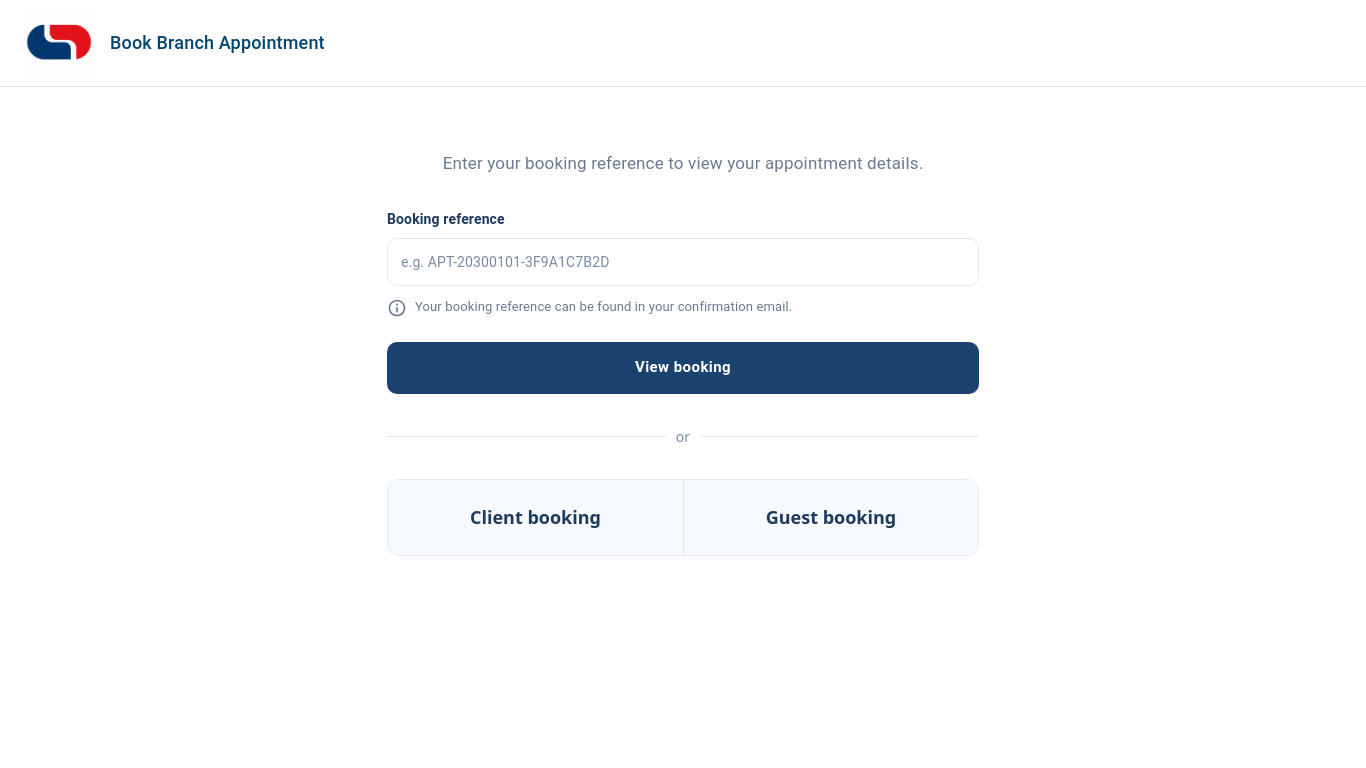
Test: AuthGate entry screen › lands unauthenticated users on the index screen and launches both flows, with Back returning to it
Expected: the field labelled "Booking reference" is shown, [387,235,979,288]
Click the button "Client booking": x=536, y=517 [388,480,683,554]
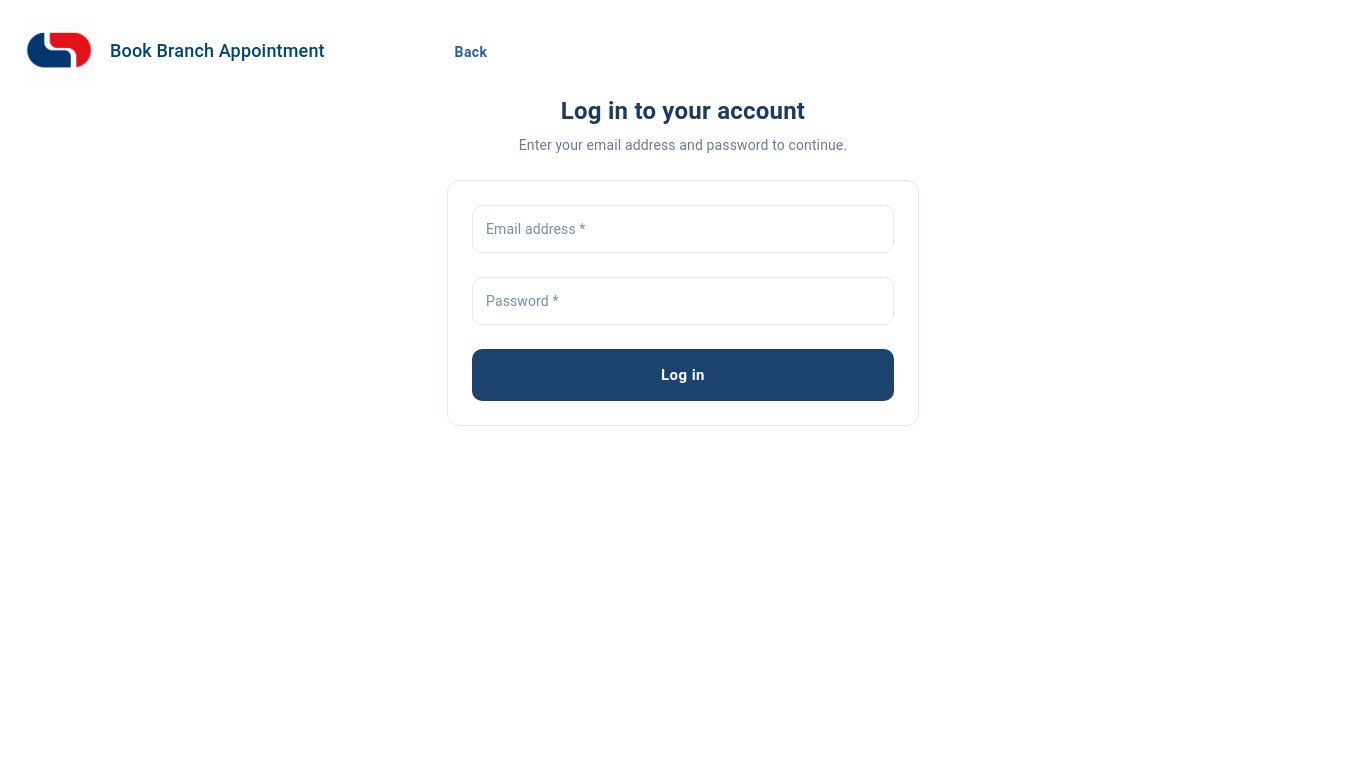
Expected: the heading "Log in to your account" is shown, [561,97,805,125]
Expected: the text labelled "booking reference" is gone
Click the button "Back": x=471, y=52 [439,32,503,72]
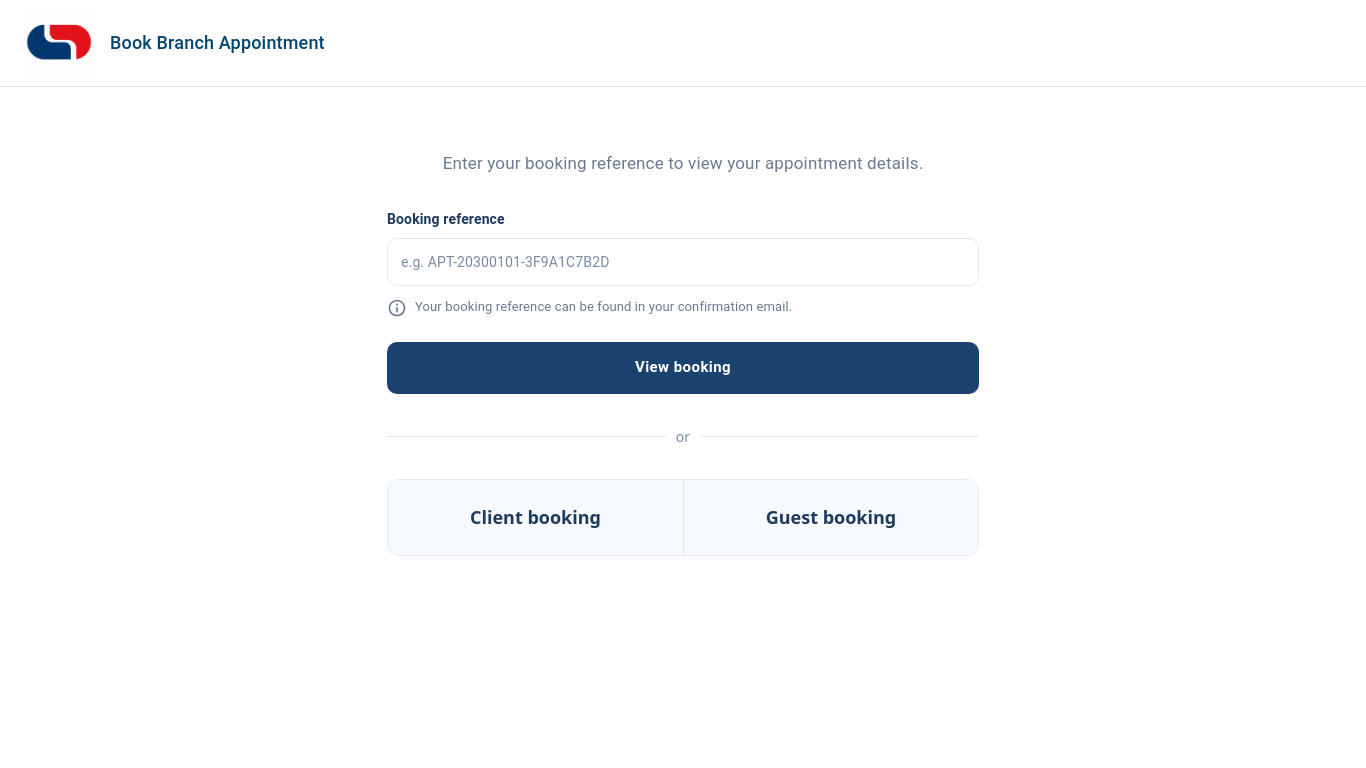
Expected: the field labelled "Booking reference" is shown, [387,235,979,288]
Click the button "Guest booking": x=830, y=517 [683,480,978,554]
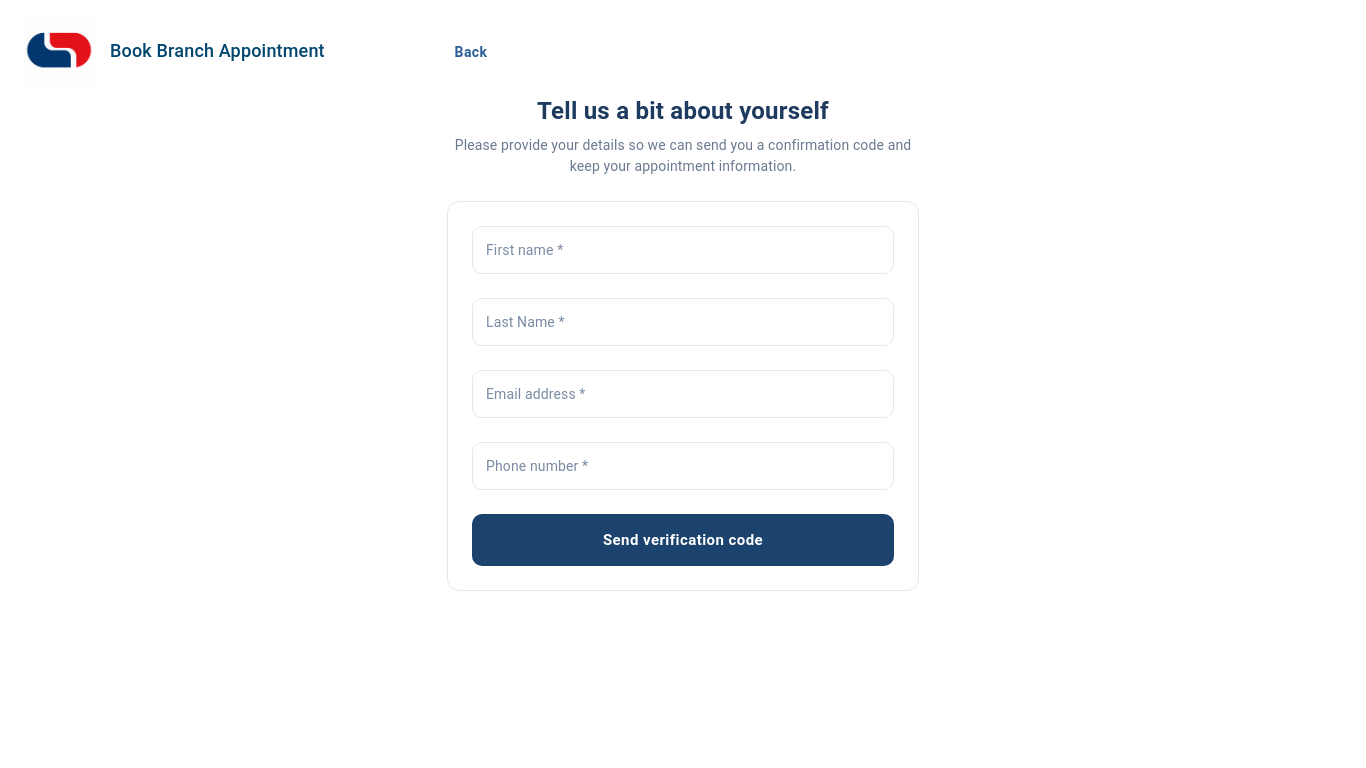
Expected: the heading "Tell us a bit about yourself" is shown, [537,97,829,125]
Expected: the text labelled "booking reference" is gone
Click the button "Back": x=471, y=52 [439,32,503,72]
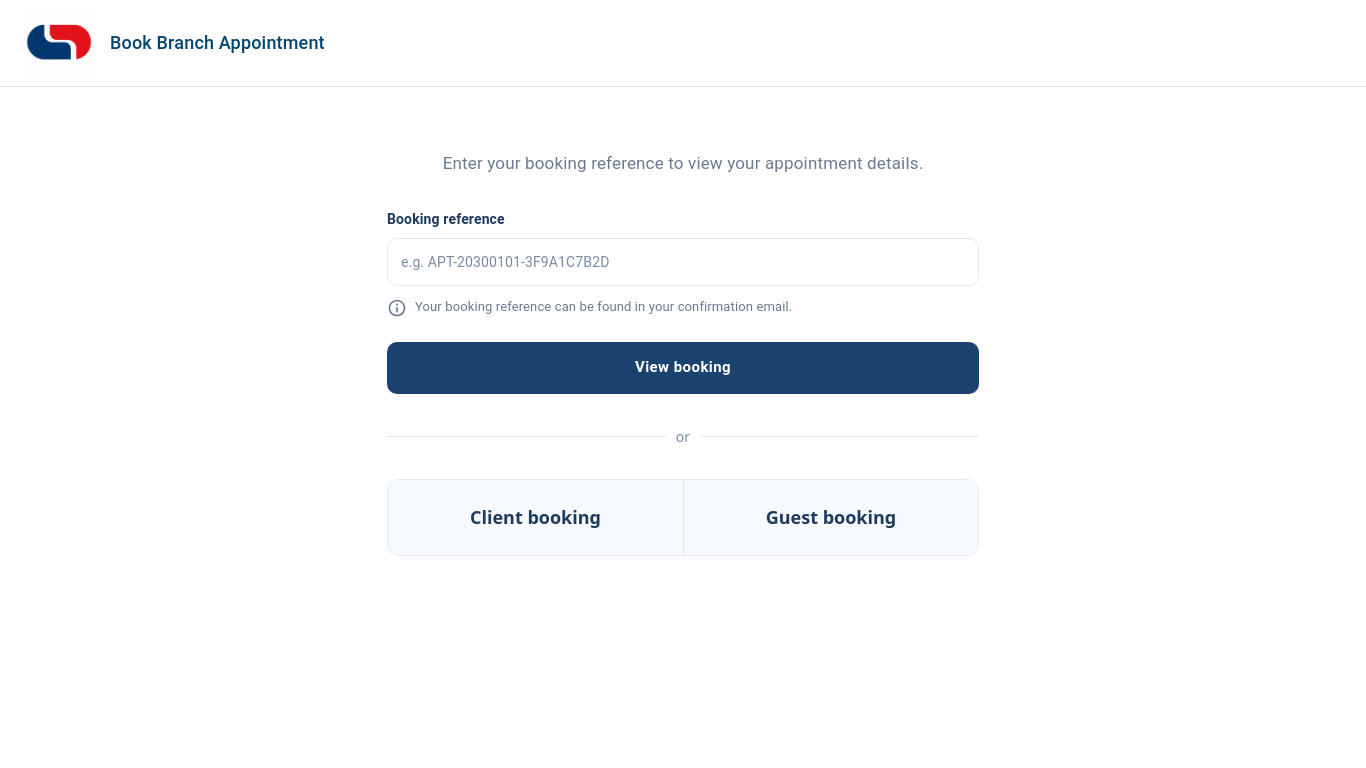
Expected: the field labelled "Booking reference" is shown, [387,235,979,288]
